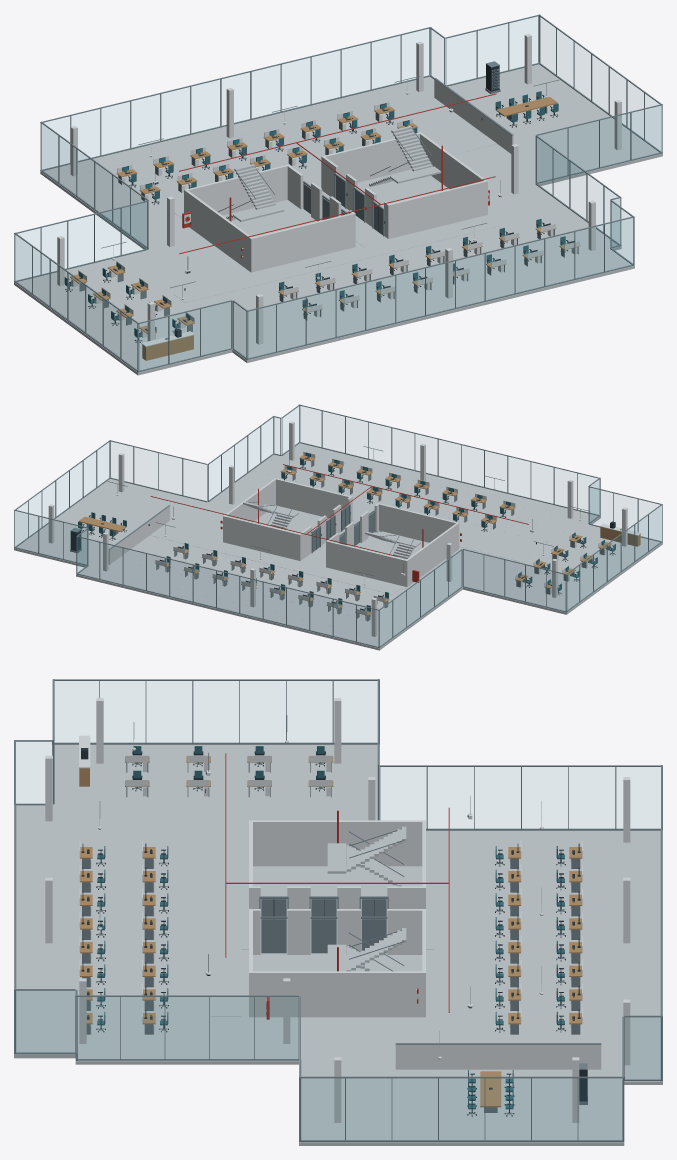
The picture shows the model from 3 angles, top to bottom: view 1: azimuth 30°, elevation 25°; view 2: azimuth 150°, elevation 25°; view 3: azimuth 270°, elevation 25°; orthographic projection. The views are drawn at different scales.
Parts seen in each view (by area): view 1: T1_F02_SLAB, T1_F02_WHITE, T1_F02_GLASS_S, T1_F02_GLASS_N, T1_F02_STEEL, T1_F02_GLASS_W, T1_F02_GLASS_E, T1_F02_WOOD, T1_F02_DARK, T1_F02_FABRIC, T1_F02_RED; view 2: T1_F02_SLAB, T1_F02_WHITE, T1_F02_GLASS_N, T1_F02_STEEL, T1_F02_GLASS_S, T1_F02_GLASS_W, T1_F02_GLASS_E, T1_F02_WOOD, T1_F02_DARK, T1_F02_FABRIC, T1_F02_RED; view 3: T1_F02_SLAB, T1_F02_WHITE, T1_F02_GLASS_E, T1_F02_GLASS_W, T1_F02_STEEL, T1_F02_WOOD, T1_F02_DARK, T1_F02_FABRIC, T1_F02_RED.
Boxes of the visible parts, left/top/right/bottom form: T1_F02_SLAB: left=14, top=64, right=662, bottom=375; T1_F02_WHITE: left=57, top=34, right=621, bottom=346; T1_F02_GLASS_S: left=140, top=106, right=660, bottom=370; T1_F02_GLASS_N: left=19, top=17, right=538, bottom=267; T1_F02_STEEL: left=14, top=14, right=662, bottom=372; T1_F02_GLASS_W: left=15, top=125, right=245, bottom=369; T1_F02_GLASS_E: left=431, top=18, right=657, bottom=243; T1_F02_WOOD: left=70, top=97, right=580, bottom=360; T1_F02_DARK: left=65, top=64, right=574, bottom=342; T1_F02_FABRIC: left=64, top=91, right=566, bottom=337; T1_F02_RED: left=179, top=93, right=496, bottom=258; T1_F02_SLAB: left=14, top=443, right=662, bottom=650; T1_F02_WHITE: left=48, top=421, right=641, bottom=636; T1_F02_GLASS_N: left=15, top=512, right=564, bottom=646; T1_F02_STEEL: left=14, top=404, right=662, bottom=648; T1_F02_GLASS_S: left=110, top=406, right=657, bottom=527; T1_F02_GLASS_W: left=380, top=480, right=661, bottom=645; T1_F02_GLASS_E: left=18, top=408, right=298, bottom=536; T1_F02_WOOD: left=78, top=455, right=640, bottom=615; T1_F02_DARK: left=70, top=453, right=615, bottom=616; T1_F02_FABRIC: left=78, top=458, right=615, bottom=611; T1_F02_RED: left=150, top=464, right=528, bottom=582; T1_F02_SLAB: left=14, top=744, right=662, bottom=1145; T1_F02_WHITE: left=45, top=698, right=630, bottom=1122; T1_F02_GLASS_E: left=16, top=991, right=660, bottom=1139; T1_F02_GLASS_W: left=16, top=681, right=660, bottom=828; T1_F02_STEEL: left=14, top=679, right=662, bottom=1141; T1_F02_WOOD: left=79, top=756, right=582, bottom=1107; T1_F02_DARK: left=81, top=748, right=587, bottom=1116; T1_F02_FABRIC: left=97, top=746, right=564, bottom=1109; T1_F02_RED: left=225, top=753, right=449, bottom=1019.
Bounding box in the file's own units: 55.47 × 4.5 × 38.19.
